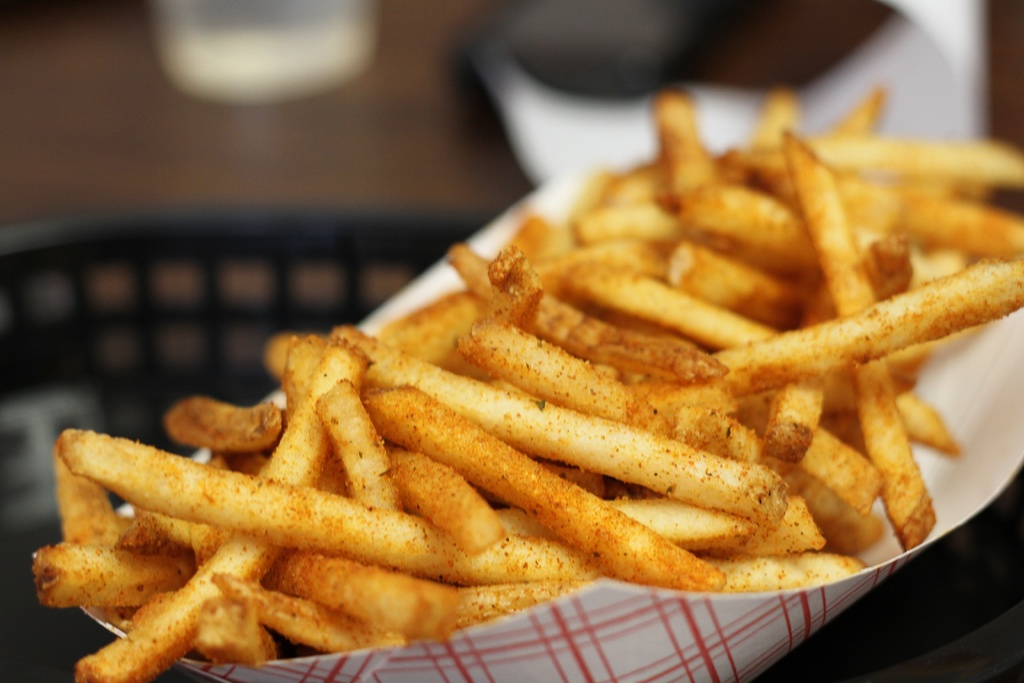French fries: (31, 73, 1023, 682)
